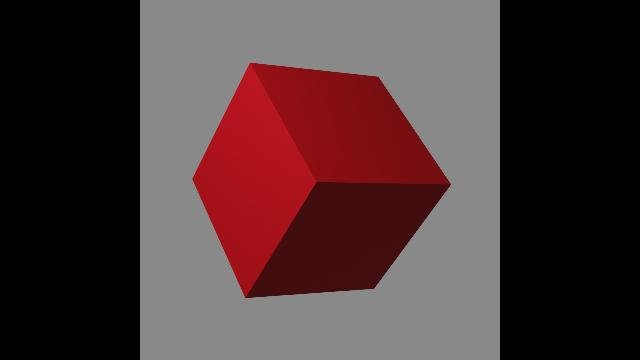Cube: (188, 58, 454, 302)
